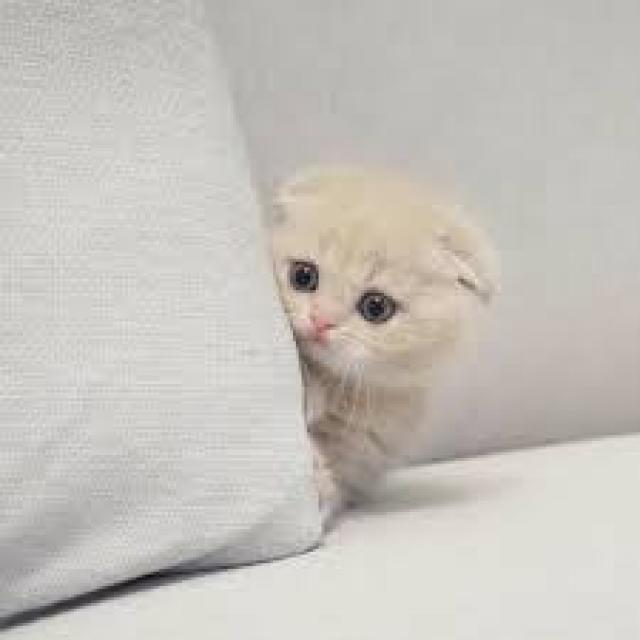cat-face: (197, 109, 514, 415)
